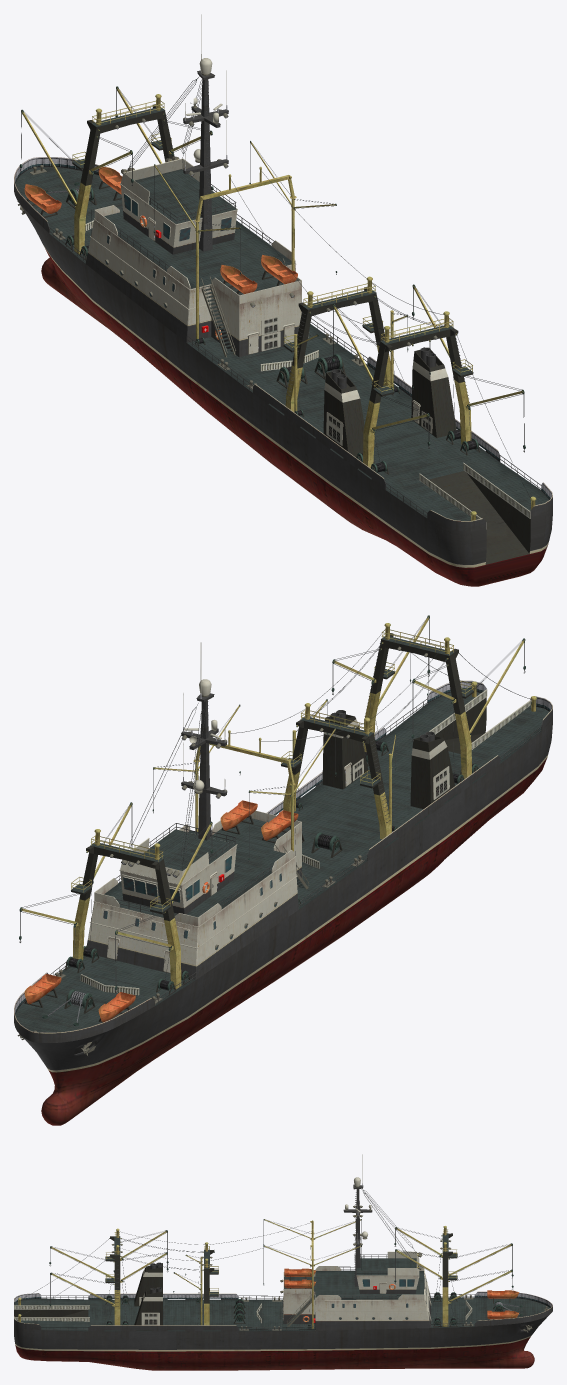
Rendered from Fishing_Ship.obj.
The picture shows the model from 3 angles, top to bottom: view 1: azimuth 30°, elevation 25°; view 2: azimuth 150°, elevation 25°; view 3: azimuth 270°, elevation 25°; orthographic projection. The views are drawn at different scales.
Visible parts, largest first — view 1: Object009; view 2: Object009; view 3: Object009.
Part boxes in pixels (<box>): Object009: <box>14,14,552,586</box>; Object009: <box>14,615,552,1125</box>; Object009: <box>14,1154,552,1370</box>.
Size of the model in its own units: 1408 by 4414 by 10099.
